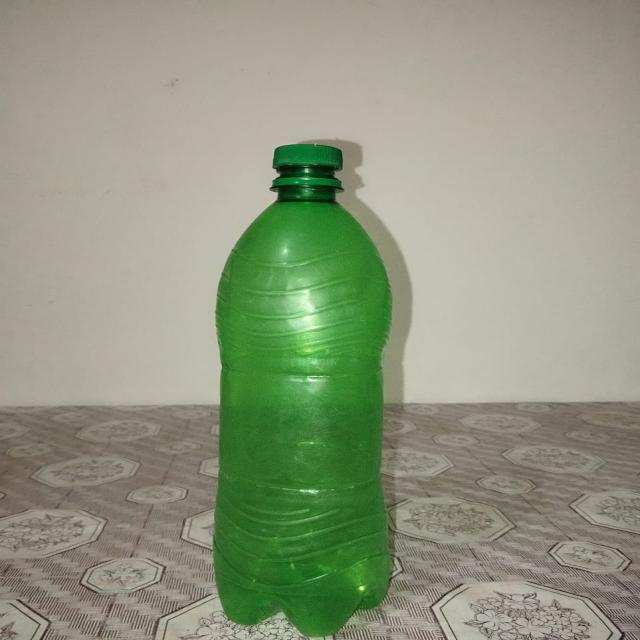bottle: (188, 128, 414, 636)
cap: (271, 144, 344, 188)
